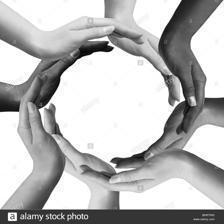Hand: (155, 27, 214, 136), (12, 86, 61, 190), (82, 157, 207, 193), (33, 11, 115, 49)
